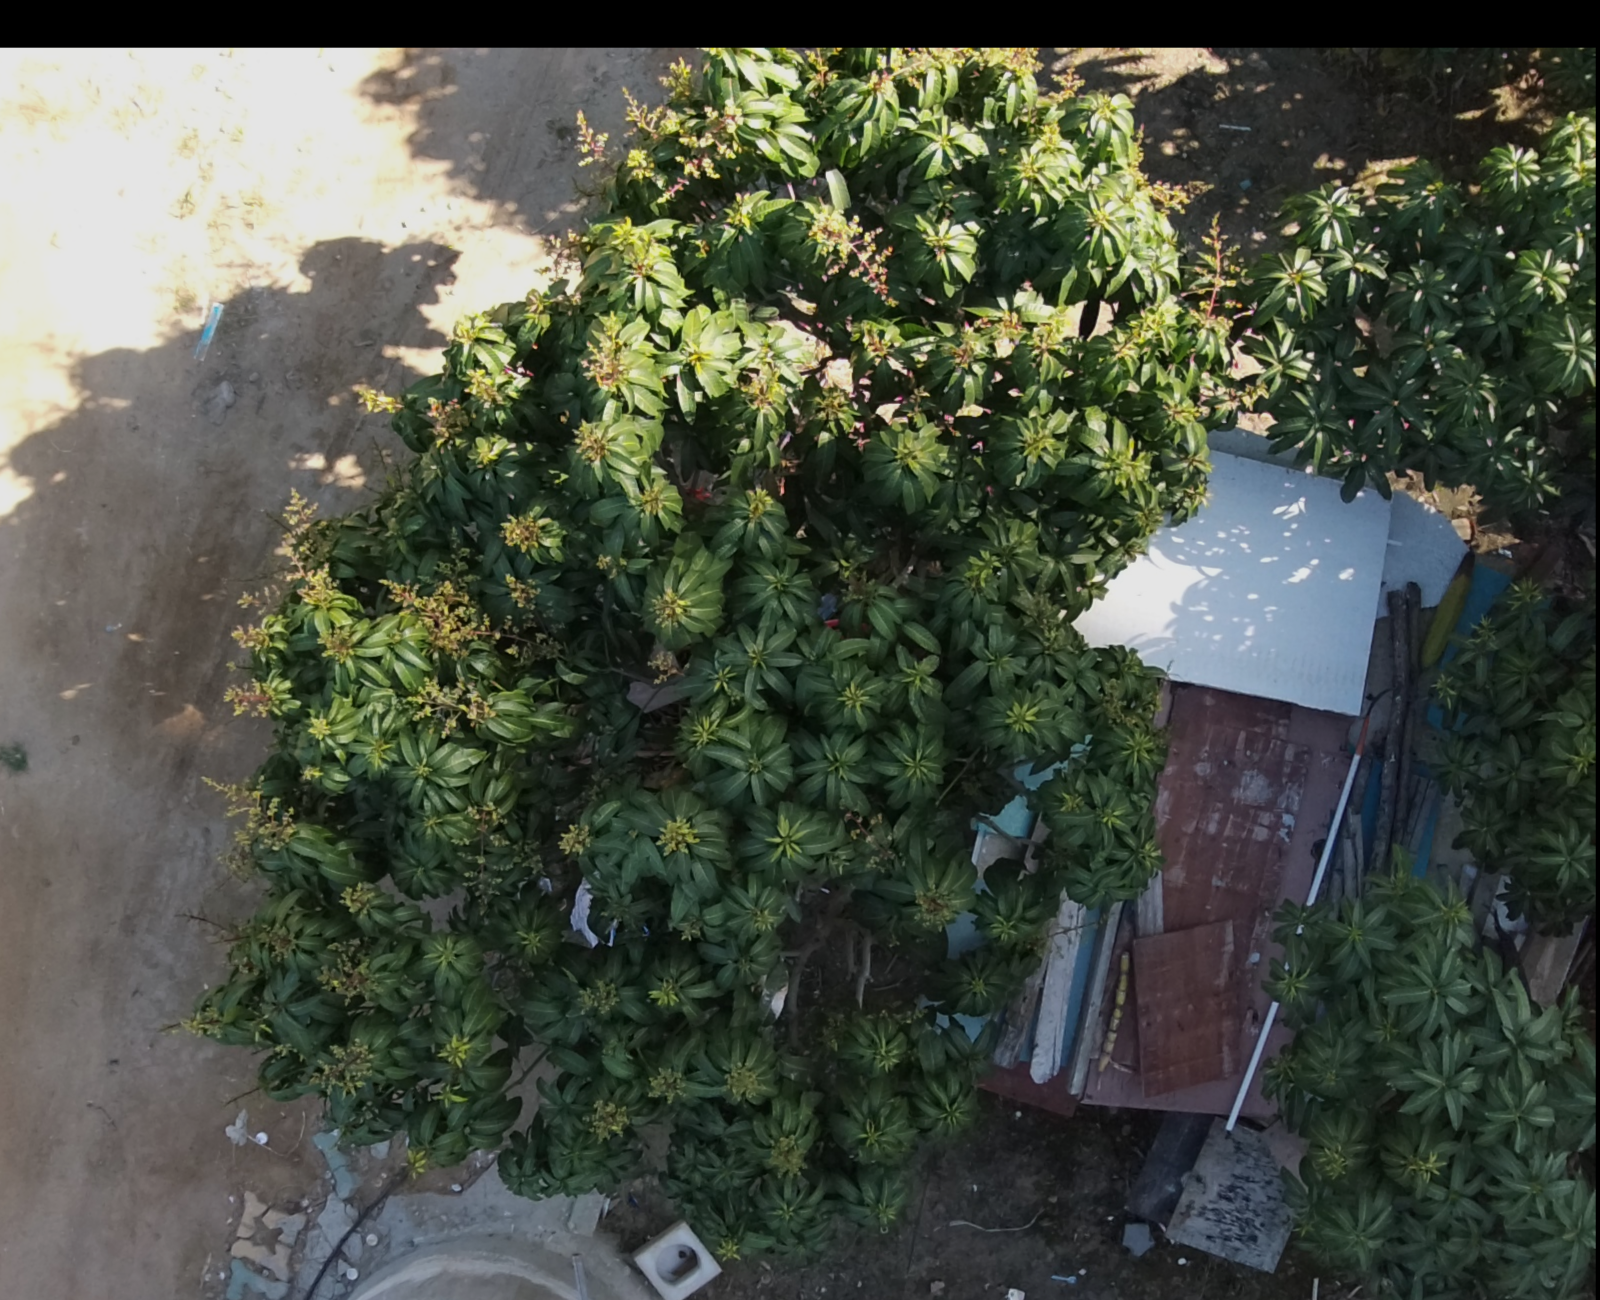flowers: (616, 58, 746, 214), (381, 544, 498, 657), (237, 489, 336, 621), (427, 807, 524, 898), (808, 206, 892, 301), (1183, 216, 1248, 329), (864, 46, 1037, 88), (203, 777, 297, 850), (501, 574, 561, 663), (406, 679, 494, 734), (314, 937, 367, 1003), (313, 1039, 374, 1093), (230, 919, 292, 972), (582, 314, 624, 391), (500, 505, 563, 553), (464, 367, 529, 406), (1146, 180, 1211, 212), (967, 46, 1037, 76), (740, 369, 785, 411), (588, 1098, 629, 1138), (766, 1134, 807, 1174), (578, 978, 618, 1013), (657, 817, 698, 852), (647, 1067, 685, 1102), (574, 422, 606, 463), (724, 1063, 759, 1100), (340, 881, 375, 914), (647, 646, 681, 682), (321, 627, 354, 662), (504, 574, 537, 609), (559, 822, 589, 854), (647, 976, 678, 1007), (1008, 700, 1037, 732), (674, 915, 700, 941), (306, 715, 330, 738)
